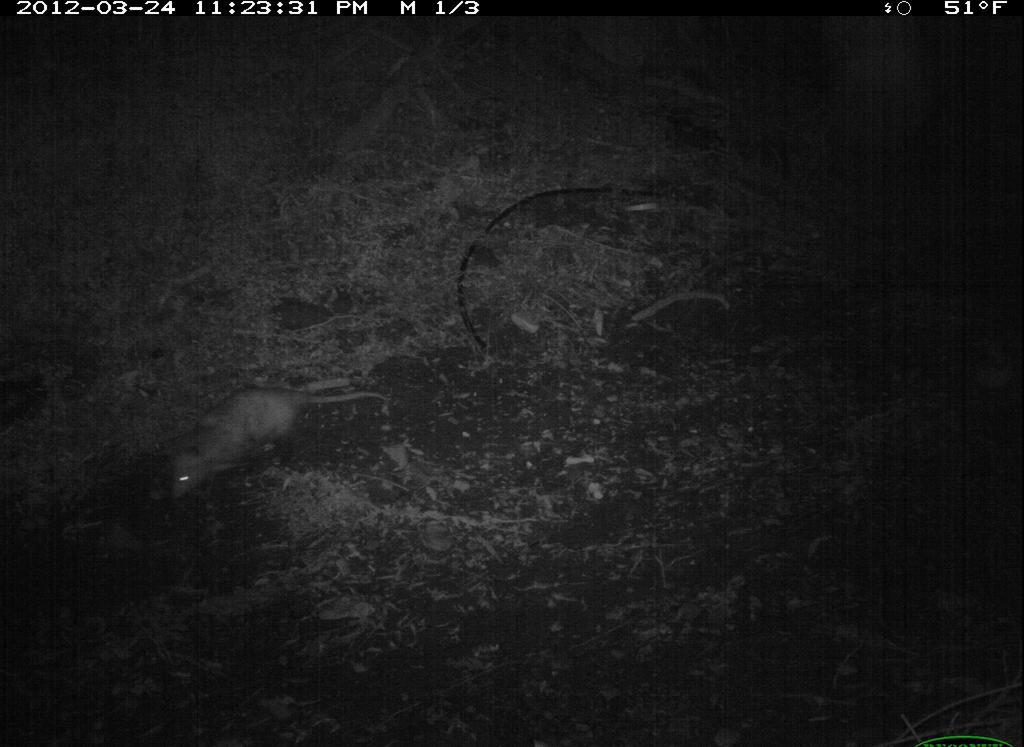opossum: (149, 368, 367, 509)
